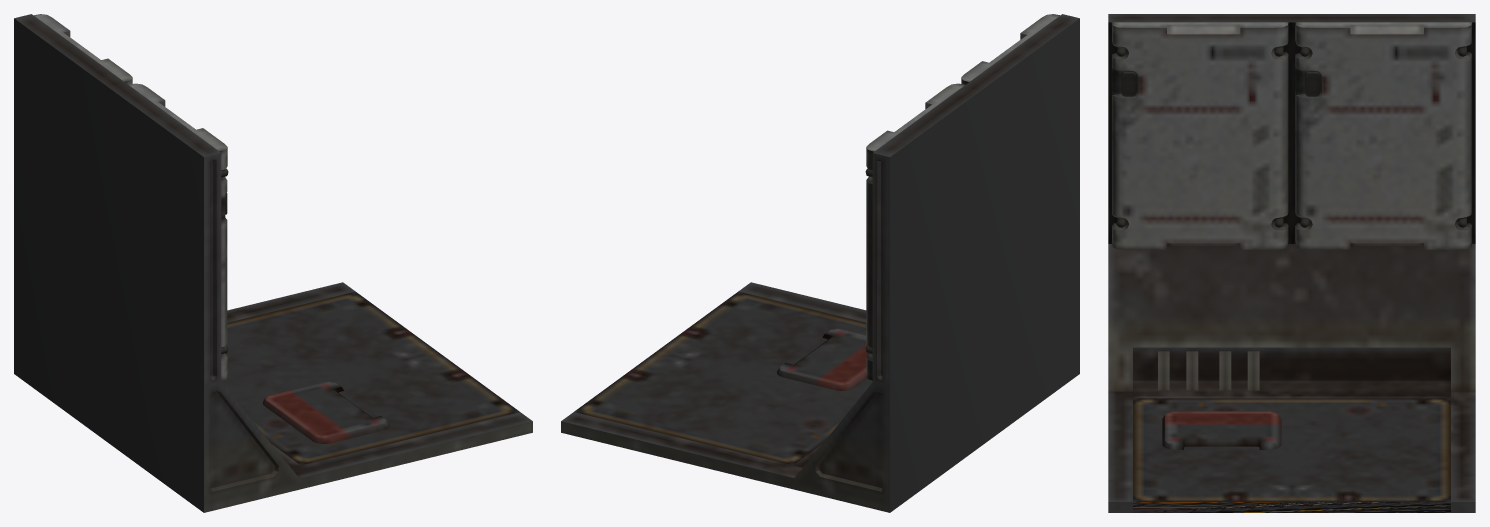
File: Wall-Floor_27.FBX
3 views of the same model, side by side, from view 1: azimuth 30°, elevation 25°; view 2: azimuth 150°, elevation 25°; view 3: azimuth 270°, elevation 25° (orthographic). The views are drawn at different scales.
Parts seen in each view (by area): view 1: Wall-Floor_27; view 2: Wall-Floor_27; view 3: Wall-Floor_27.
Boxes of the visible parts, <box> form: Wall-Floor_27: <box>14,14,532,512</box>; Wall-Floor_27: <box>561,14,1079,512</box>; Wall-Floor_27: <box>1108,14,1475,512</box>.
Bounding box in the file's own units: 300 × 310 × 300.
